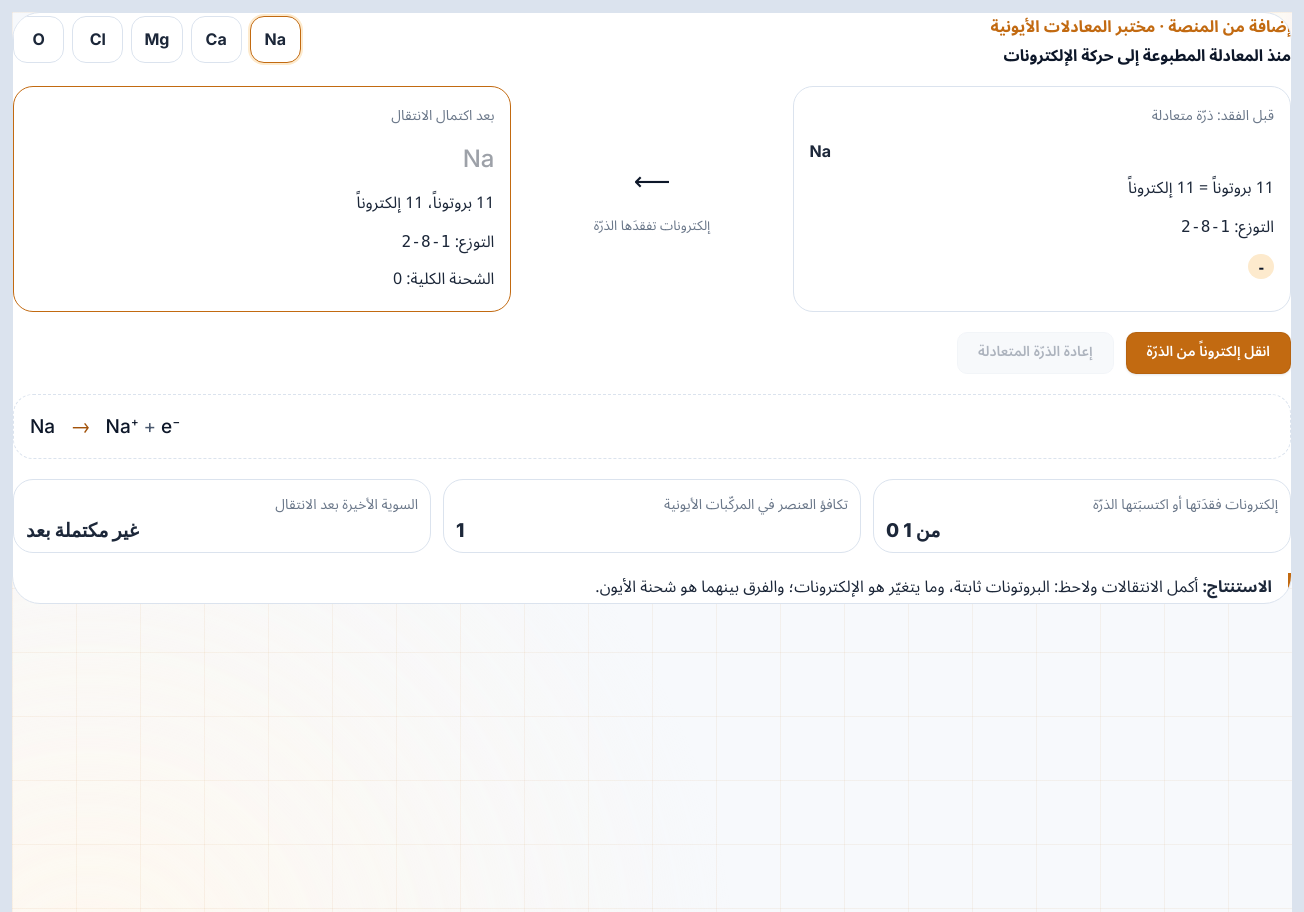
Scenario: interactive electron badges — one inline notation unit › IonEquationLab › renders the shared ChargeNotation wrapper with body and charge inside
Click the button with class "button--primary" at {"x": 1208, "y": 353}, box x1=1126 y1=332 x2=1291 y2=374
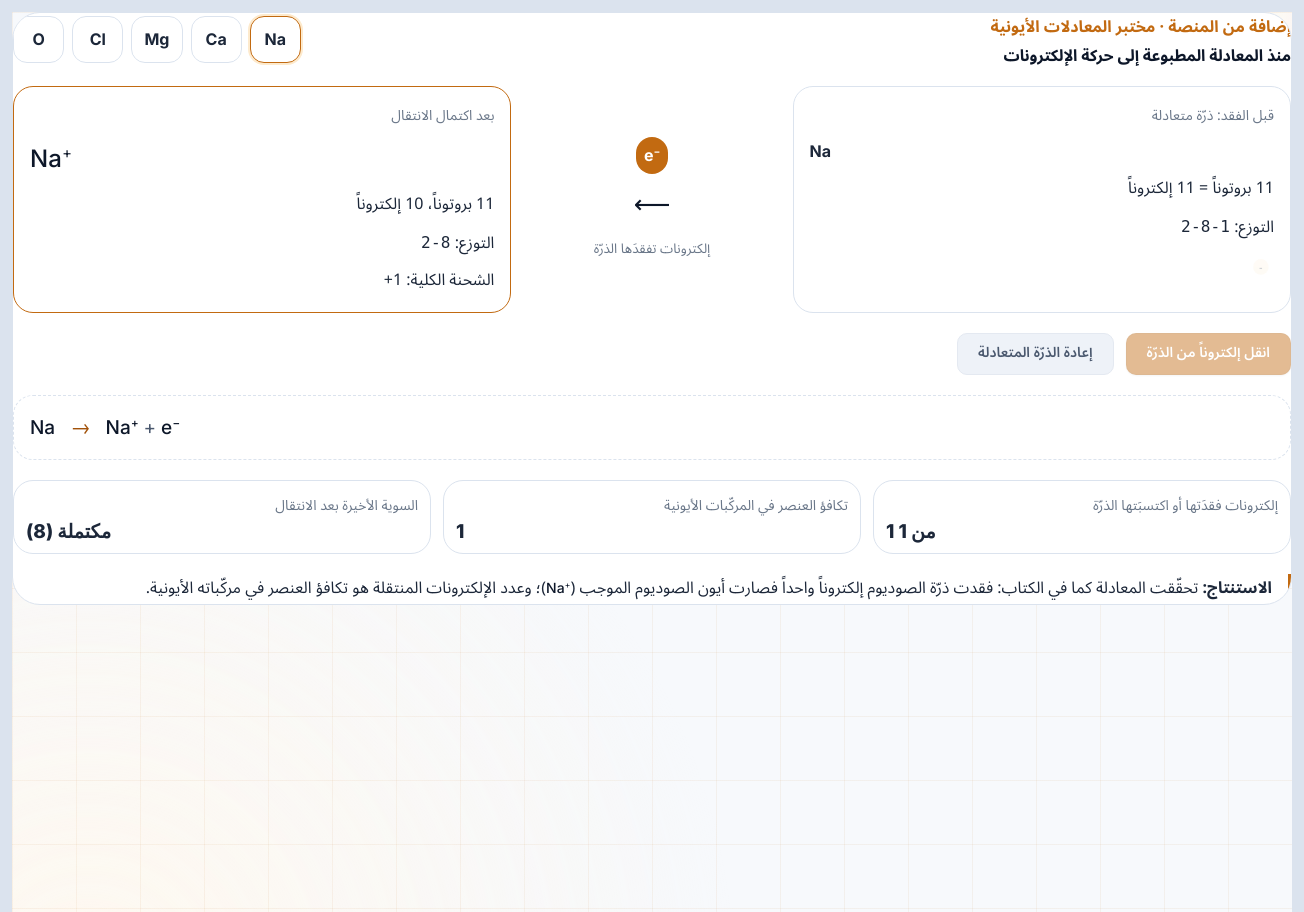
Expected: the text with class "charge-notation__body" reads "e", x1=644 y1=144 x2=653 y2=164
Expected: the 1st element showing "−" is shown, x1=654 y1=145 x2=660 y2=157
